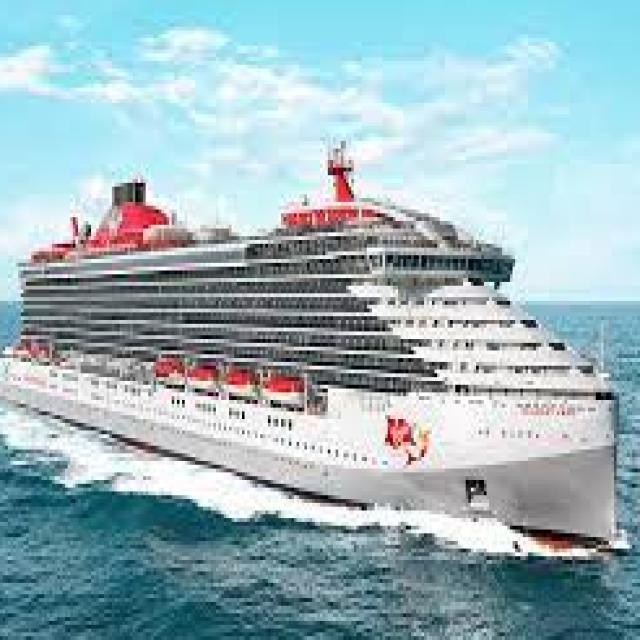passenger ship: (0, 145, 632, 545)
